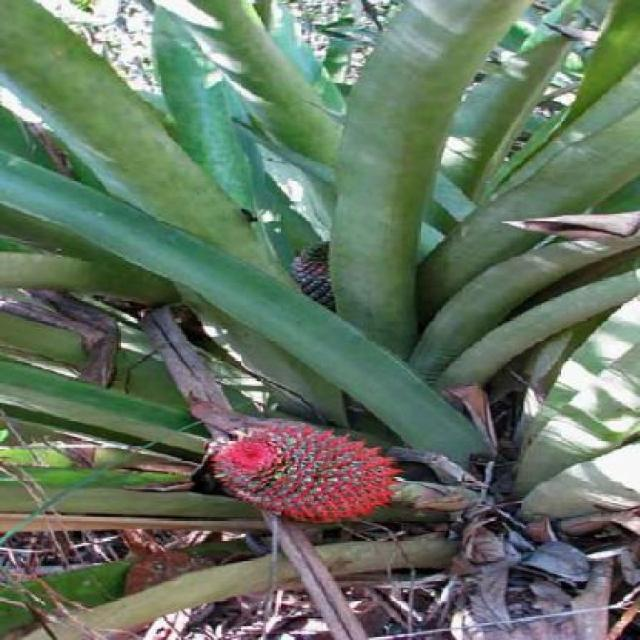Pineapple: (198, 418, 418, 530), (296, 233, 332, 310)
